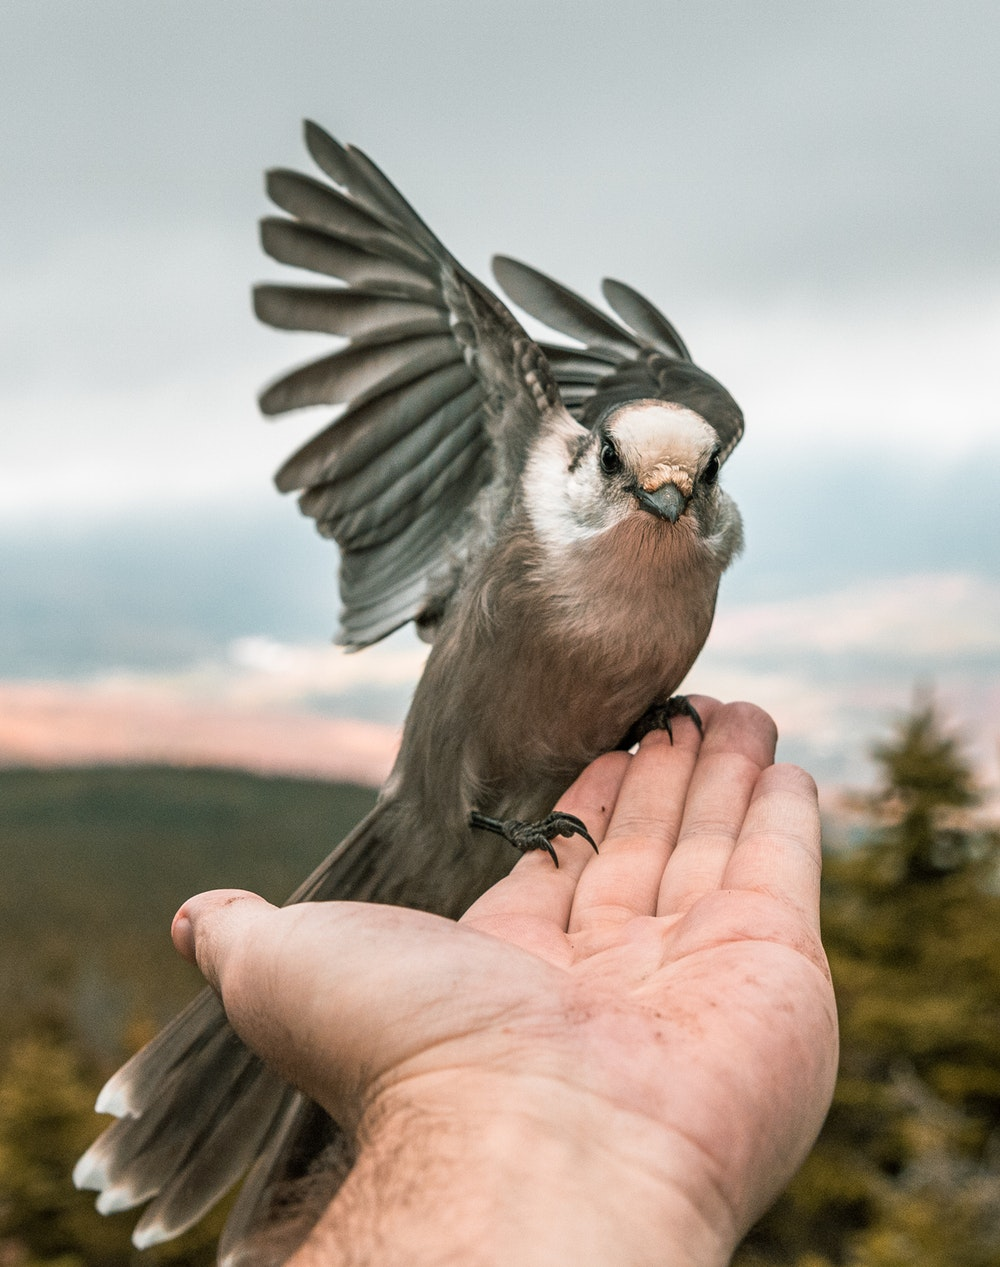palm: (328, 854, 779, 1194)
